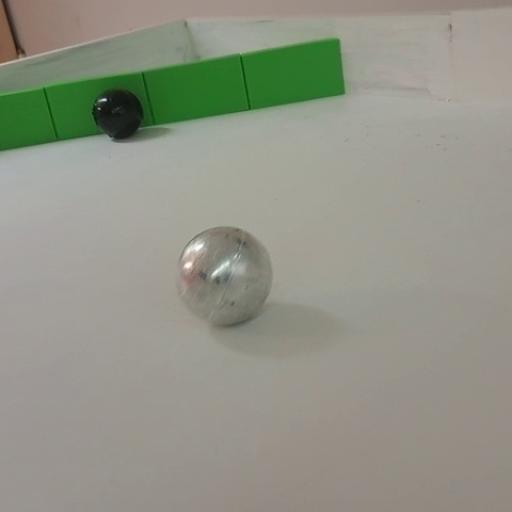alive: (175, 225, 275, 327)
dead: (92, 88, 144, 140)
